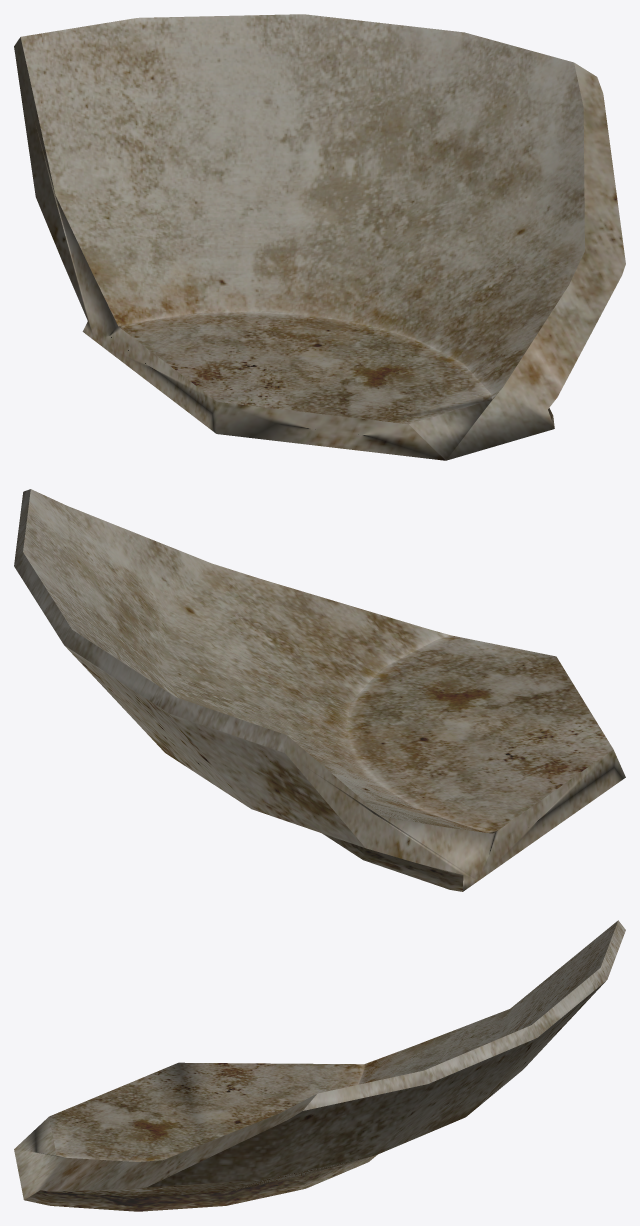
Rendered from PlateDeepShardB.fbx.
3 views of the same model, one above another, from view 1: azimuth 30°, elevation 25°; view 2: azimuth 150°, elevation 25°; view 3: azimuth 270°, elevation 25° (orthographic). The views are drawn at different scales.
Parts seen in each view (by area): view 1: Default_Layer; view 2: Default_Layer; view 3: Default_Layer.
Boxes of the visible parts, x1,y1,x2,y2 form: Default_Layer: (14, 14, 625, 460); Default_Layer: (14, 489, 625, 891); Default_Layer: (14, 920, 625, 1211).
Bounding box in the file's own units: 39.85 × 17.18 × 50.96.
